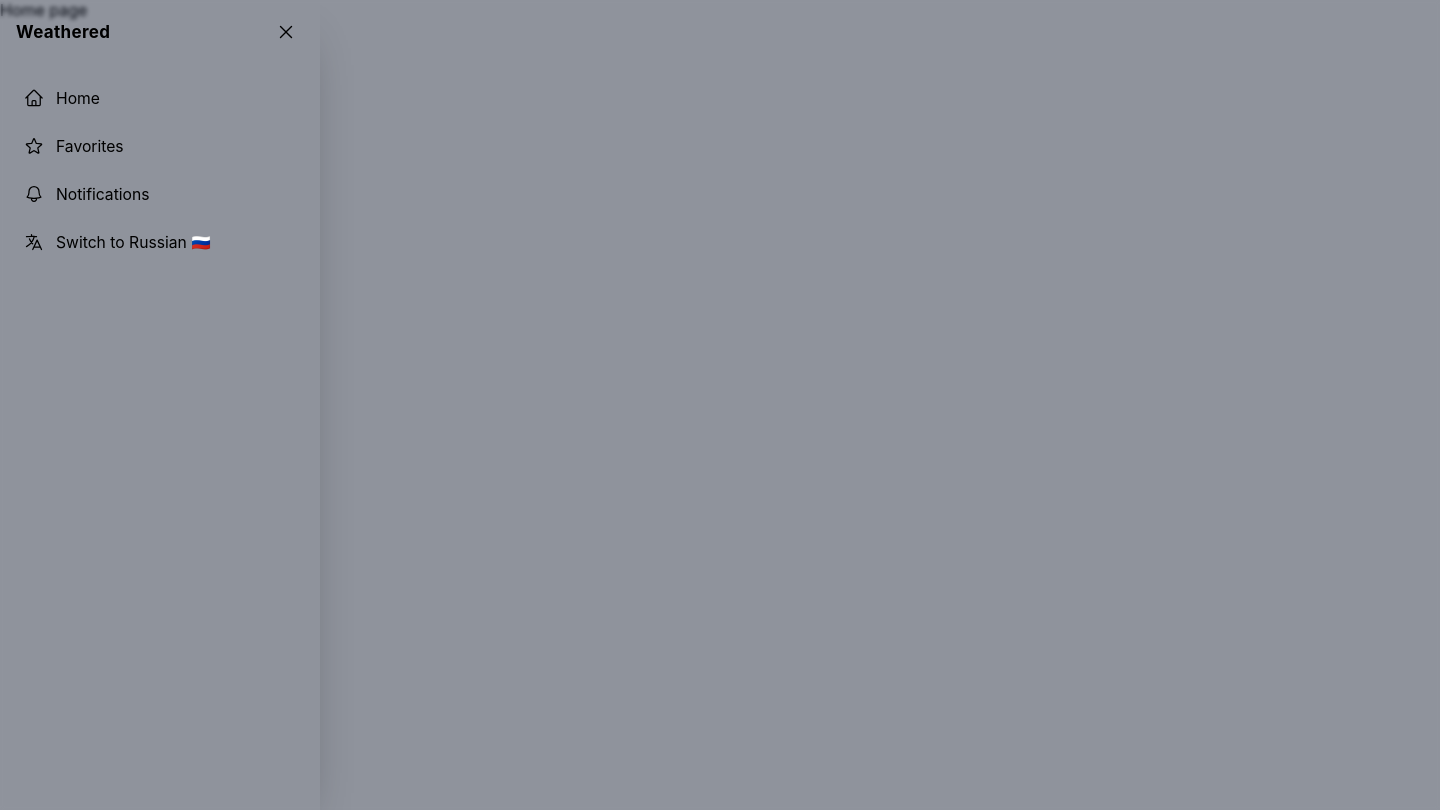
Test: Sidebar › navigates to favorites and closes itself
Click the button "Favorites" at (90, 146), box [12,124,308,168]
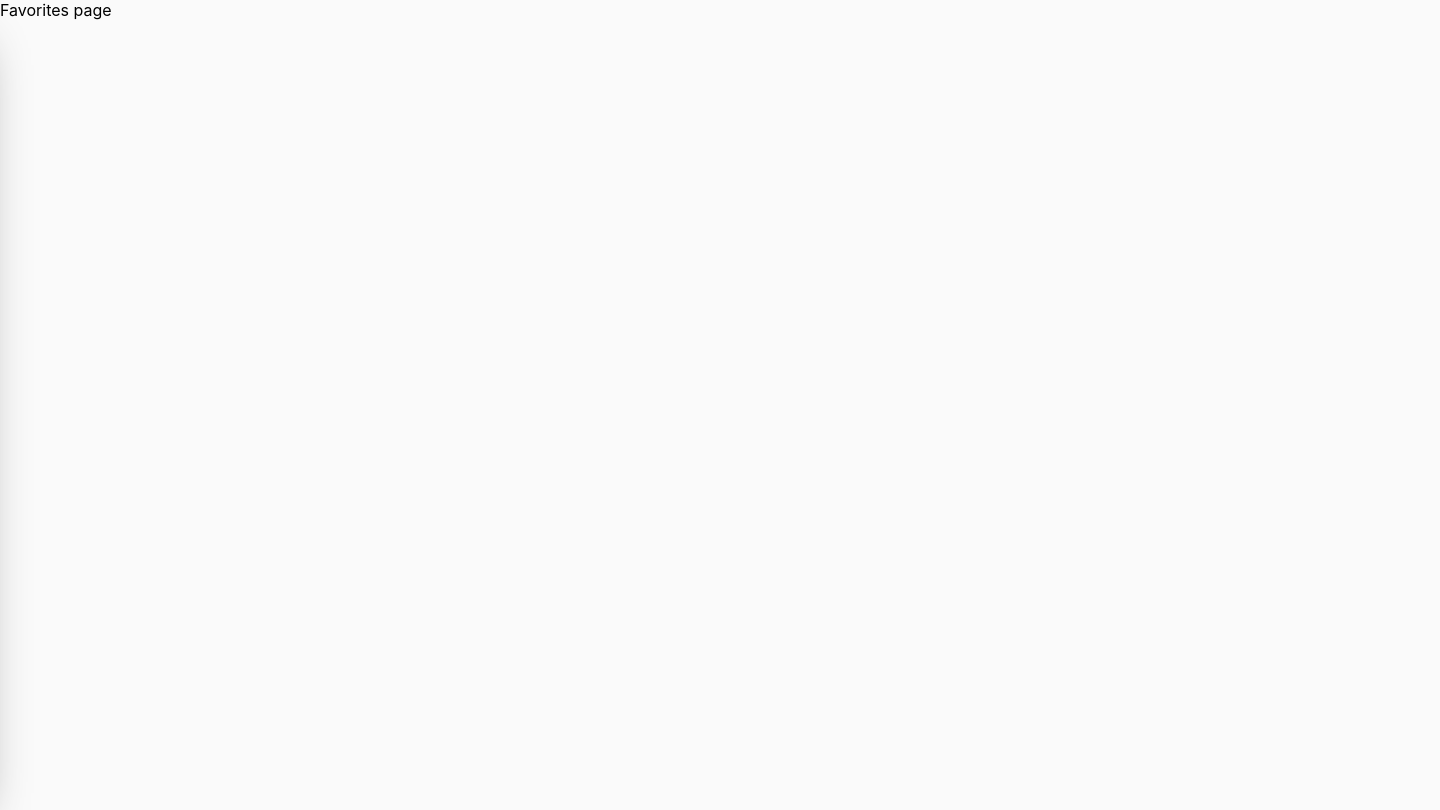
Check: the text "Favorites page" is shown, box [0,0,112,20]
